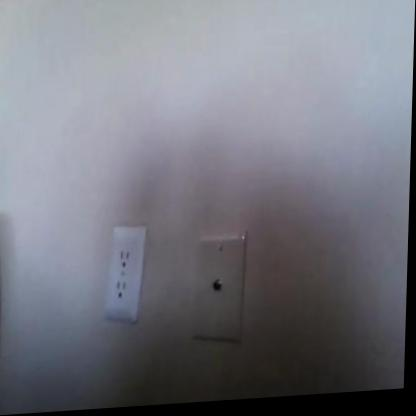OUTLET: (104, 225, 146, 322)
